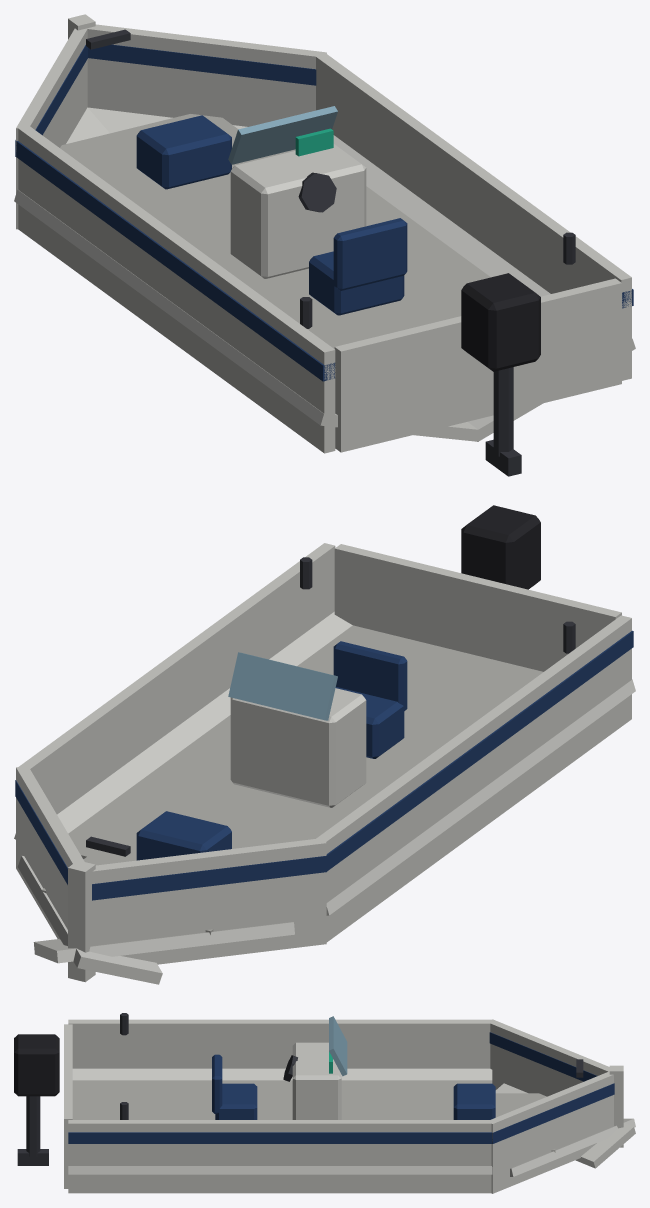
Rendered from DeepV.glb.
3 renders of one model, top to bottom at view 1: azimuth 30°, elevation 25°; view 2: azimuth 150°, elevation 25°; view 3: azimuth 270°, elevation 25°, orthographic. The views are drawn at different scales.
Visible parts, largest first — view 1: DeepV; view 2: DeepV; view 3: DeepV.
Part boxes in pixels (left/top/right/bottom): DeepV: left=14, top=14, right=635, bottom=476; DeepV: left=14, top=505, right=635, bottom=984; DeepV: left=14, top=1013, right=635, bottom=1193.
Size of the model in its own units: 7.19 by 4.14 by 17.75.
